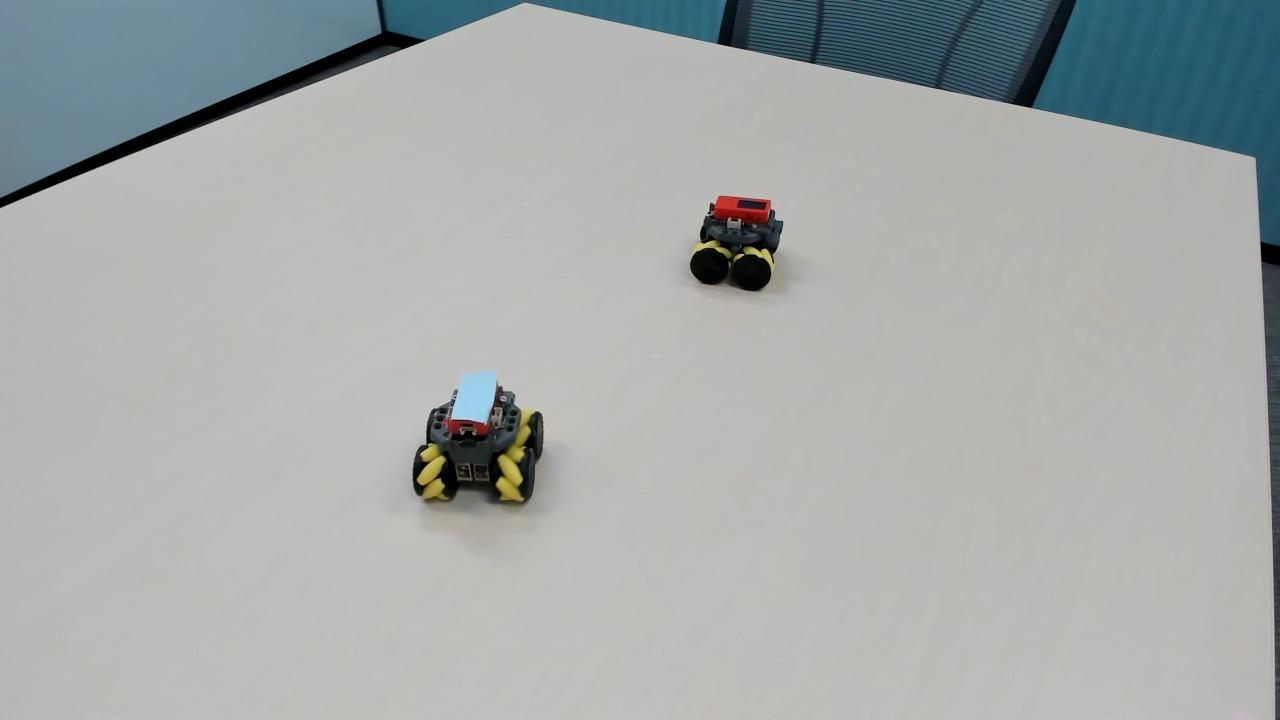B-Robot: (405, 368, 560, 531)
R-Robot: (681, 183, 795, 296)
